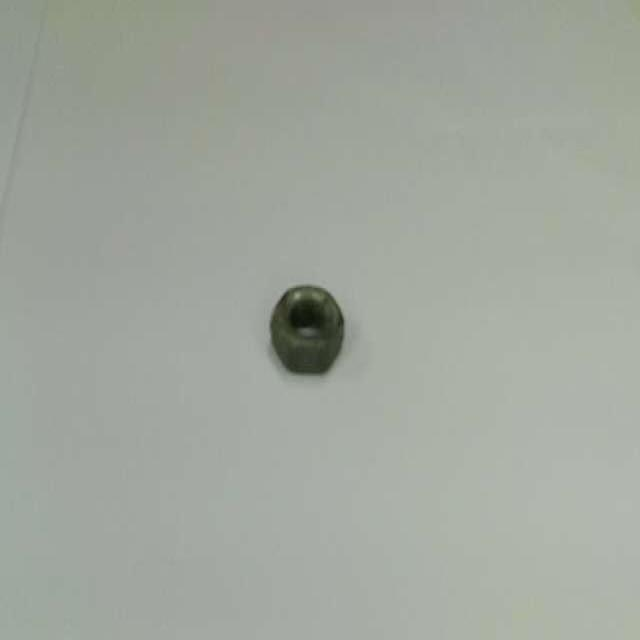Porca: (271, 287, 344, 372)
